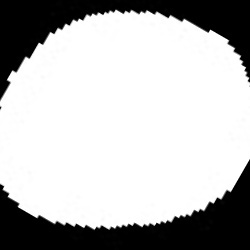spot: (1, 11, 248, 228)
